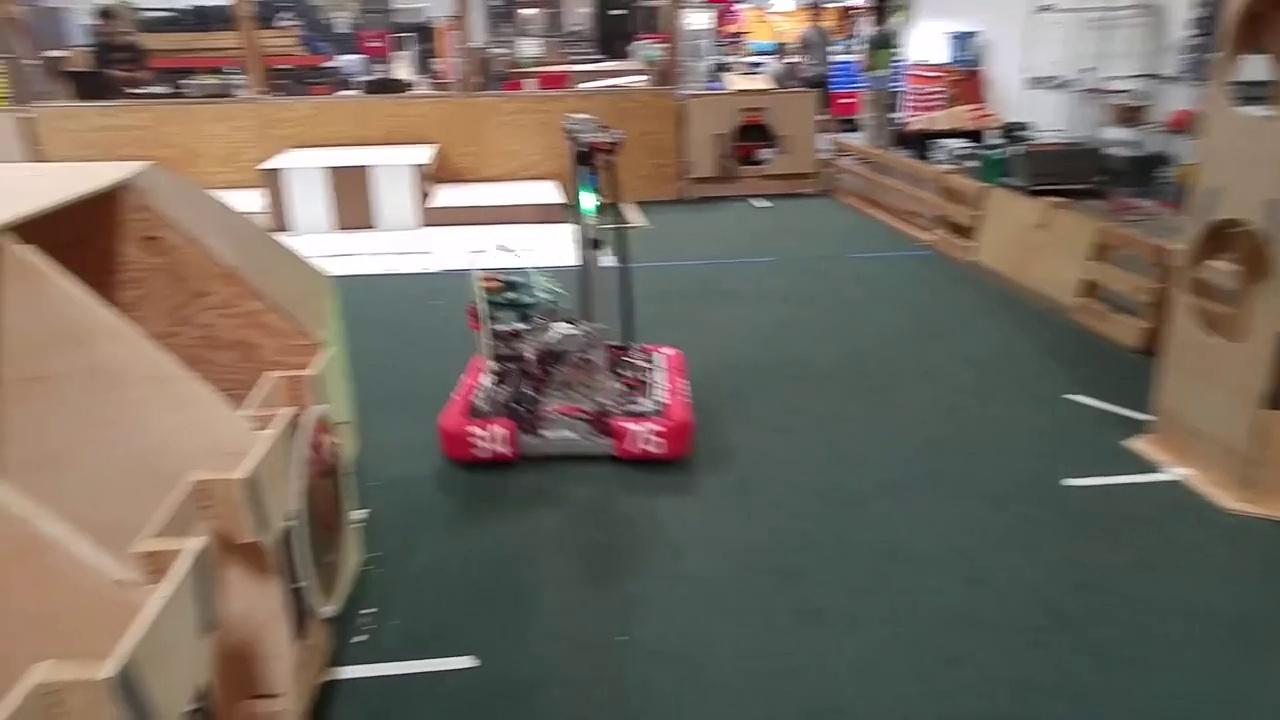robot: (432, 112, 697, 473)
